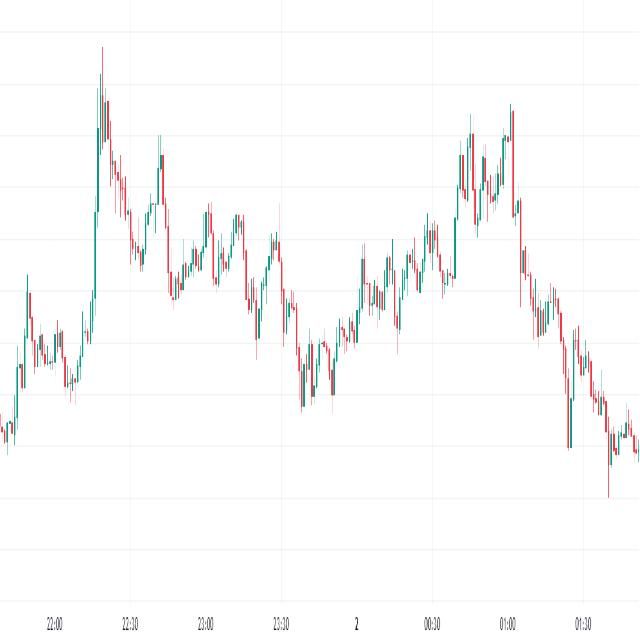Rounding-Bottom: (97, 83, 513, 425)
